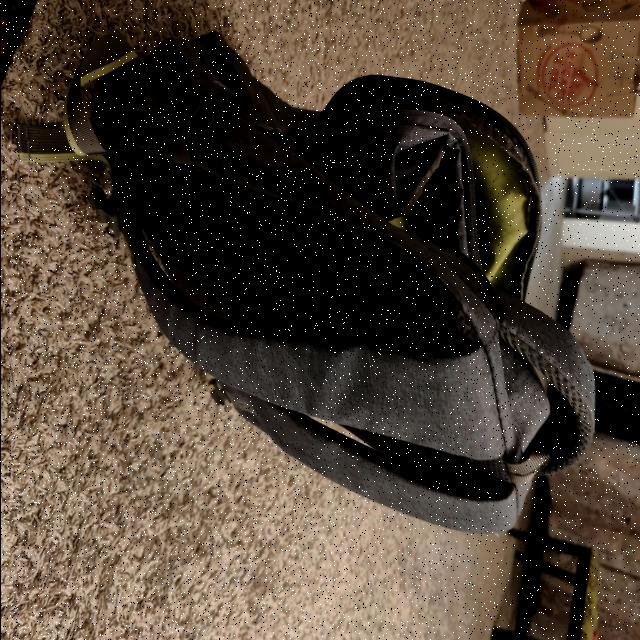bag: (97, 55, 594, 539)
